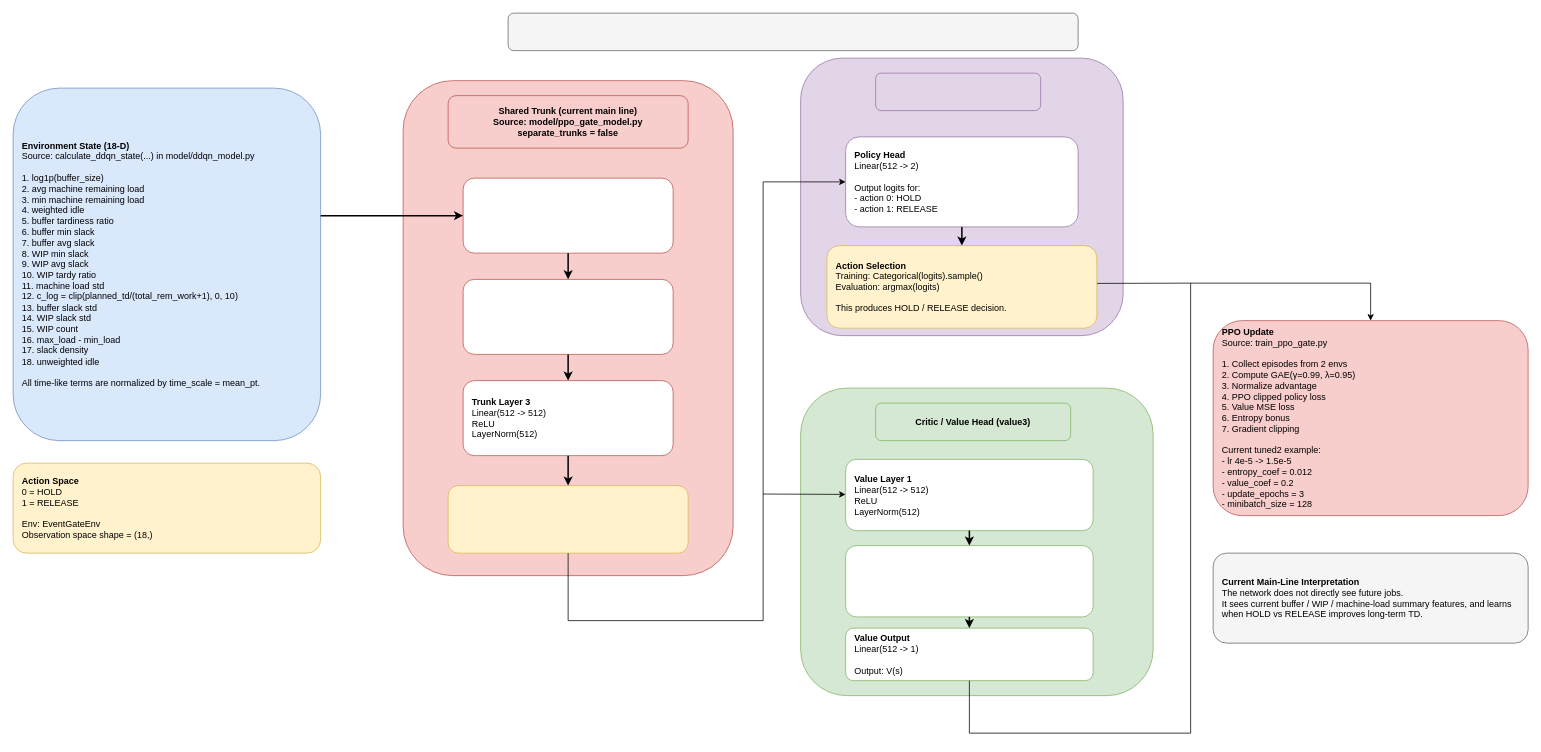
The diagram is 1541 pixels wide and 752 high, and some of its shapes have lost their labels. The centre of each missing label's shape, as x and y in pixels:
"Actor / Policy Head" belongs at (958,91).
"Hight Level agent - PPO Gate Architecture" belongs at (792,31).
"Shared feature h Dimension = 512 Same h goes to both policy head and value head." belongs at (567,519).
"Trunk Layer 1 Linear(18 -> 512) ReLU LayerNorm(512)" belongs at (567,215).
"Trunk Layer 2 Linear(512 -> 512) ReLU LayerNorm(512)" belongs at (567,316).
"Value Layer 2 Linear(512 -> 512) ReLU LayerNorm(512)" belongs at (969,581).
